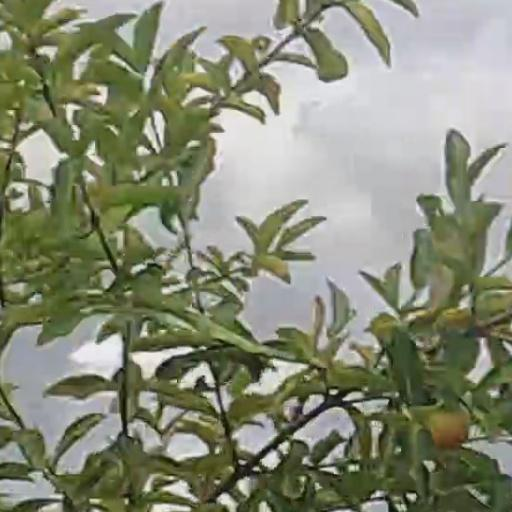acerola: (431, 414, 468, 448)
